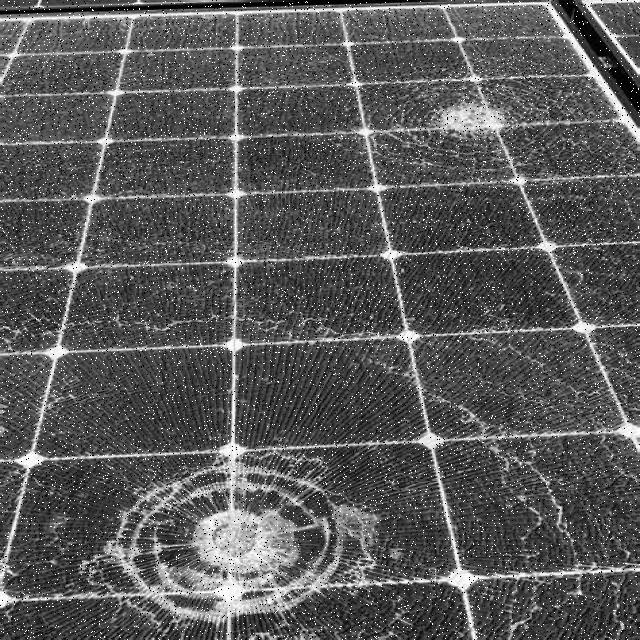physical damage: (2, 3, 636, 638)
